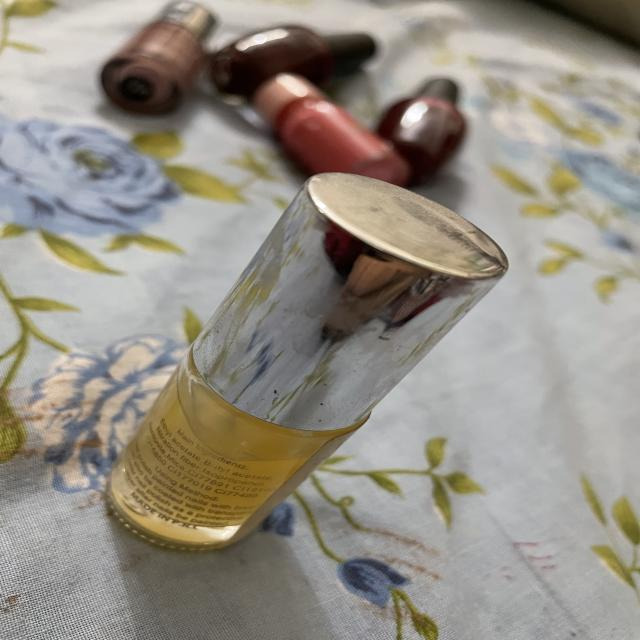nail polish: (75, 159, 538, 560)
